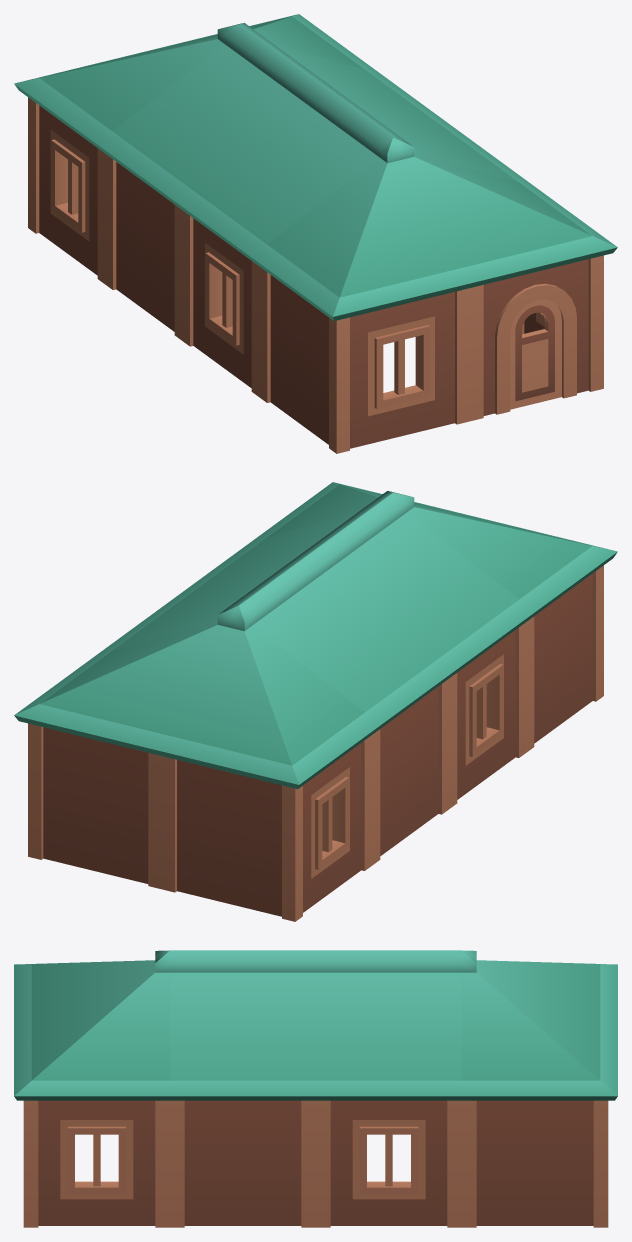
Rendered from barn.glb.
3 views of the same model, one above another, from view 1: azimuth 30°, elevation 25°; view 2: azimuth 150°, elevation 25°; view 3: azimuth 270°, elevation 25° (orthographic). The views are drawn at different scales.
Parts seen in each view (by area): view 1: barn; view 2: barn; view 3: barn.
Boxes of the visible parts, x1=… form: barn: x1=14, y1=14, x2=617, y2=453; barn: x1=14, y1=482, x2=617, y2=921; barn: x1=14, y1=950, x2=617, y2=1227.
Size of the model in its own units: 6.4 by 4.88 by 12.4.
Materials: 20 (20 with a texture image).
